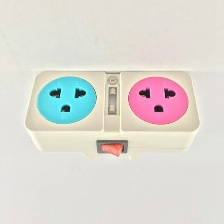three_eye_plug: (21, 66, 203, 167)
